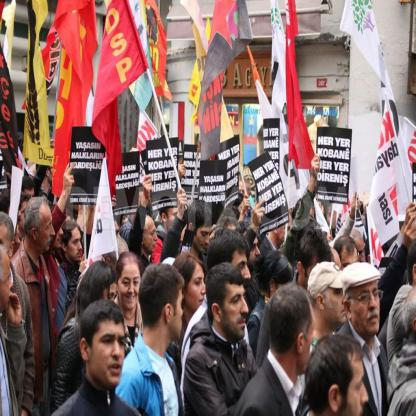face: (90, 319, 126, 389), (329, 353, 369, 416), (213, 285, 249, 343), (351, 280, 381, 335), (298, 304, 317, 374), (32, 203, 56, 251), (317, 287, 347, 325), (118, 264, 142, 311), (230, 250, 252, 300), (306, 258, 330, 302), (185, 263, 207, 310), (166, 290, 184, 340), (243, 232, 262, 278), (167, 197, 186, 240), (1, 252, 14, 314), (276, 276, 293, 317), (342, 247, 358, 288), (142, 217, 159, 253), (102, 283, 118, 320), (1, 224, 15, 266), (194, 224, 213, 253), (67, 227, 83, 261), (131, 192, 147, 224), (353, 236, 366, 275), (110, 221, 122, 255), (19, 202, 33, 230), (51, 218, 64, 248), (279, 219, 291, 247), (25, 189, 35, 216), (238, 184, 249, 208), (305, 209, 315, 229), (50, 160, 59, 182), (329, 208, 338, 229), (176, 156, 184, 167), (163, 126, 169, 133)
